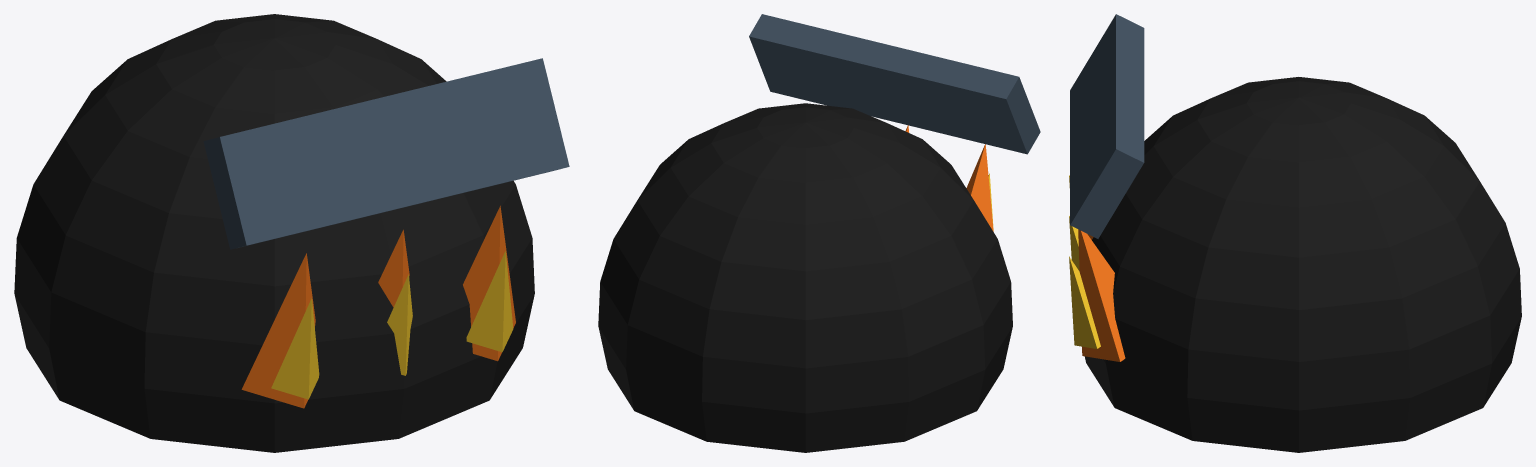
File: flame_helmet.glb
3 renders of one model, left to right at view 1: azimuth 30°, elevation 25°; view 2: azimuth 150°, elevation 25°; view 3: azimuth 270°, elevation 25°, orthographic. The views are drawn at different scales.
Parts seen in each view (by area): view 1: shell_helmet_black, visor_visor_smoke, flames_flame_orange (×3), flames_flame_yellow (×3); view 2: shell_helmet_black, visor_visor_smoke, flames_flame_orange; view 3: shell_helmet_black, visor_visor_smoke, flames_flame_orange, flames_flame_yellow.
Boxes of the visible parts, x1,y1,x2,y2 form: shell_helmet_black: (14, 14, 534, 452); visor_visor_smoke: (203, 58, 569, 249); flames_flame_orange (×3): (241, 205, 515, 408); flames_flame_yellow (×3): (271, 251, 513, 399); shell_helmet_black: (598, 103, 1012, 452); visor_visor_smoke: (749, 14, 1040, 154); flames_flame_orange: (966, 144, 993, 231); shell_helmet_black: (1084, 77, 1521, 452); visor_visor_smoke: (1070, 14, 1144, 238); flames_flame_orange: (1078, 229, 1125, 361); flames_flame_yellow: (1069, 256, 1100, 348).
Bounding box in the file's own units: 0.2791 × 0.1944 × 0.2834.
